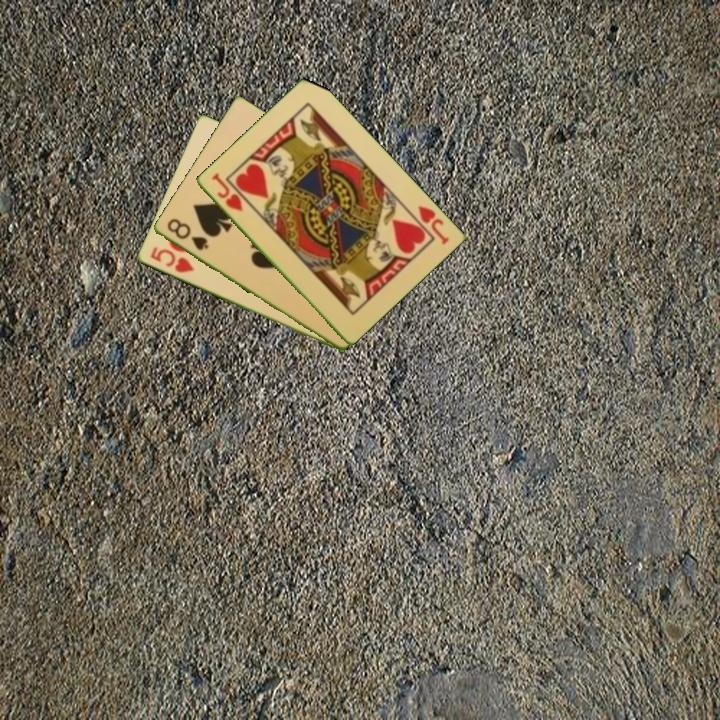5h: (146, 243, 197, 276)
8s: (163, 215, 211, 254)
Jh: (207, 169, 246, 215), (414, 202, 452, 248)
